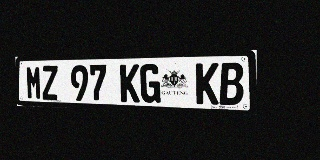7: (88, 65, 107, 101)
9: (71, 65, 89, 101)
B: (219, 62, 244, 105)
G: (140, 64, 160, 103)
K: (196, 63, 219, 105), (120, 64, 140, 102)
M: (26, 66, 42, 100)
Z: (42, 65, 58, 100)
